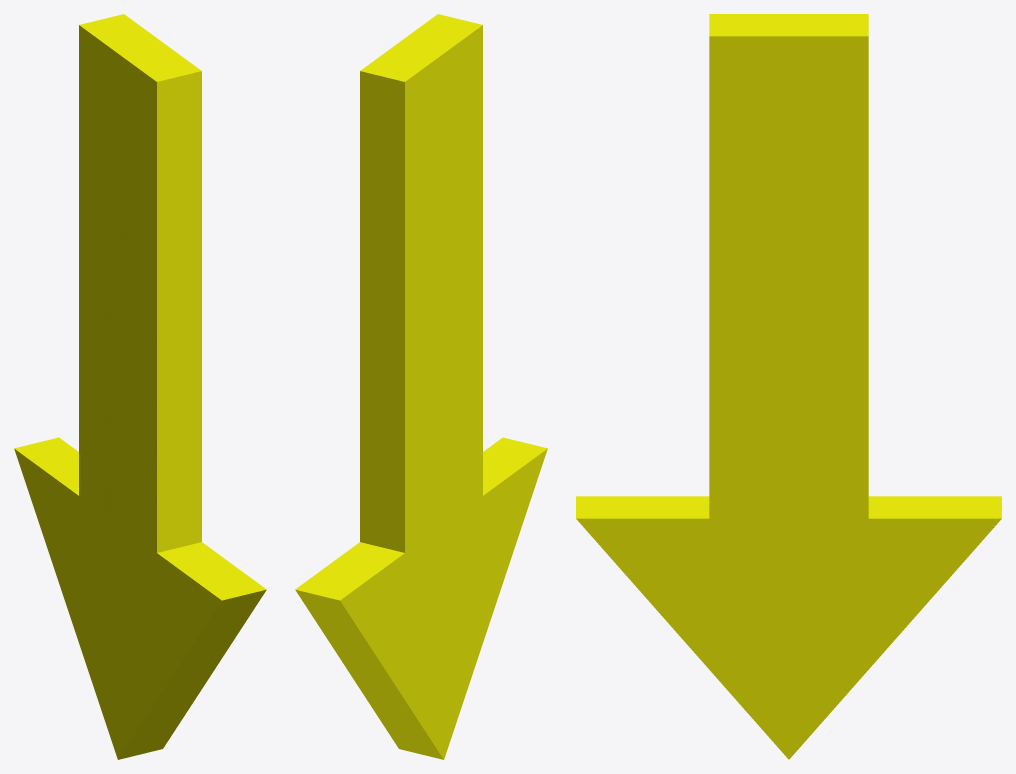
Rendered from Arrow.fbx.
The picture shows the model from 3 angles, left to right: view 1: azimuth 30°, elevation 25°; view 2: azimuth 150°, elevation 25°; view 3: azimuth 270°, elevation 25°; orthographic projection. The views are drawn at different scales.
Parts seen in each view (by area): view 1: Cube.004; view 2: Cube.004; view 3: Cube.004.
Part boxes in pixels (left/top/right/bottom): Cube.004: left=14, top=14, right=266, bottom=759; Cube.004: left=295, top=14, right=547, bottom=759; Cube.004: left=576, top=14, right=1001, bottom=759.
Size of the model in its own units: 20 by 300 by 160.
